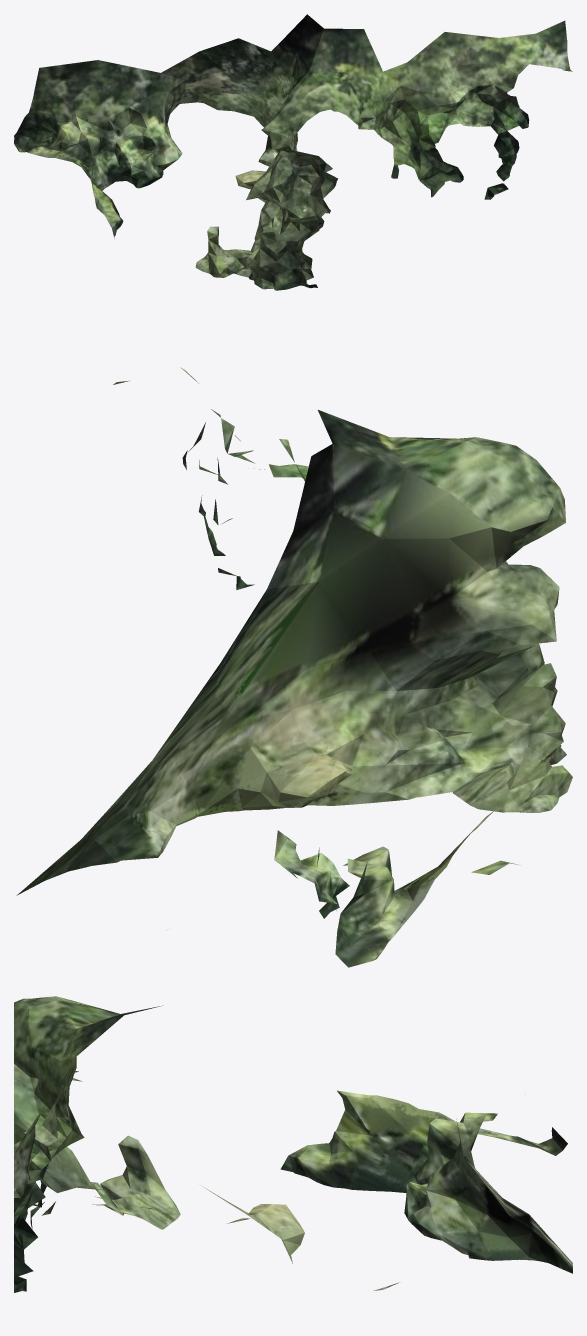
The picture shows the model from 3 angles, top to bottom: view 1: azimuth 30°, elevation 25°; view 2: azimuth 150°, elevation 25°; view 3: azimuth 270°, elevation 25°; orthographic projection. The views are drawn at different scales.
Size of the model in its own units: 52.22 by 28.85 by 52.22.
Materials: 3 (3 with a texture image).
